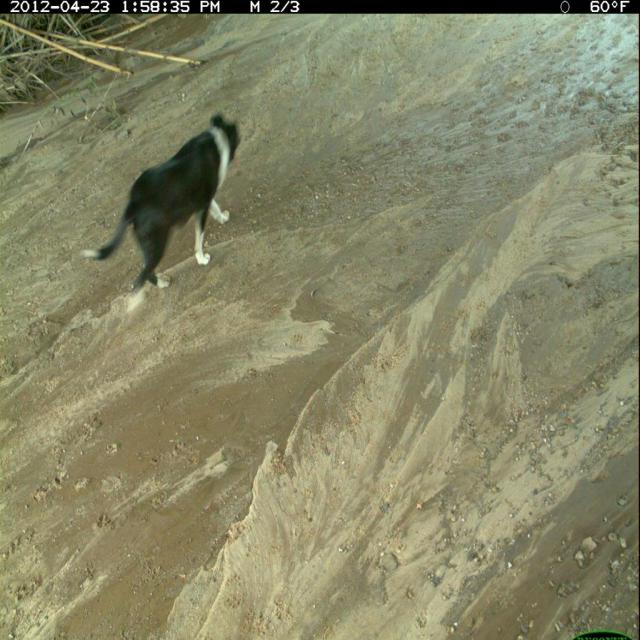dog: (80, 105, 247, 322)
